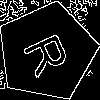R: (22, 27, 80, 79)
